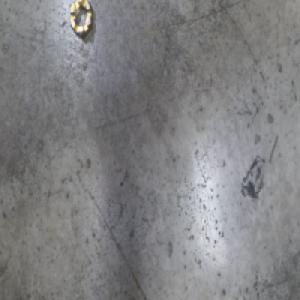Nut: (68, 0, 94, 41)
